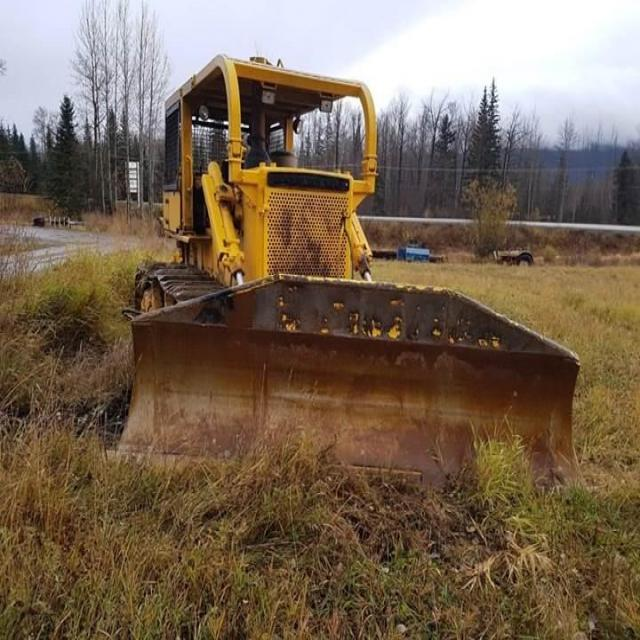Bulldozer: (53, 40, 587, 511)
